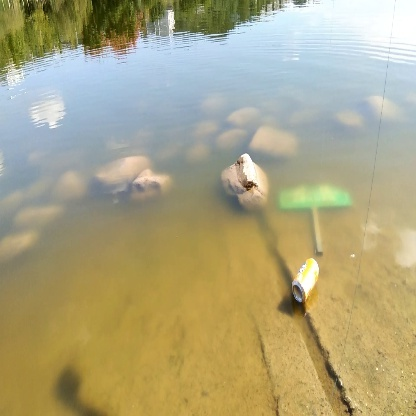bottle: (284, 248, 322, 315)
